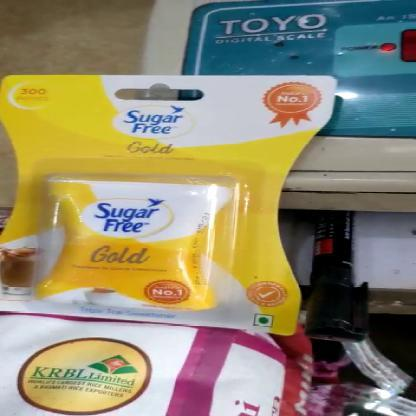SUGAR FREE GOLD 500 PELLET: (6, 74, 331, 336)
